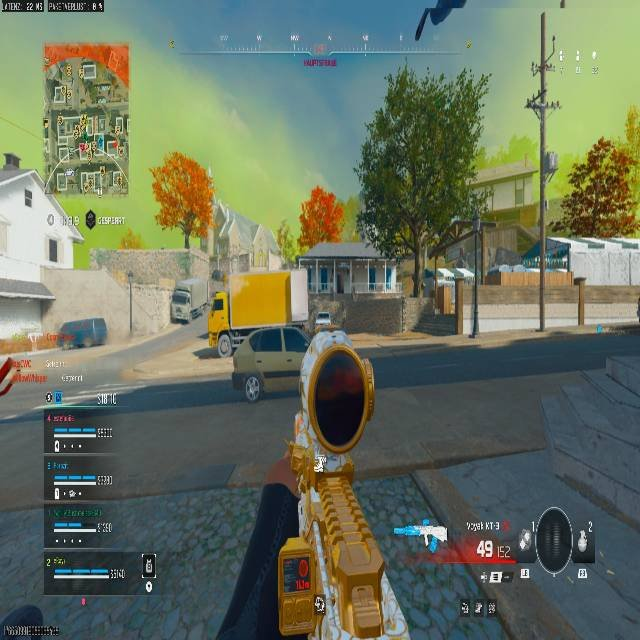head: (0, 604, 44, 640)
